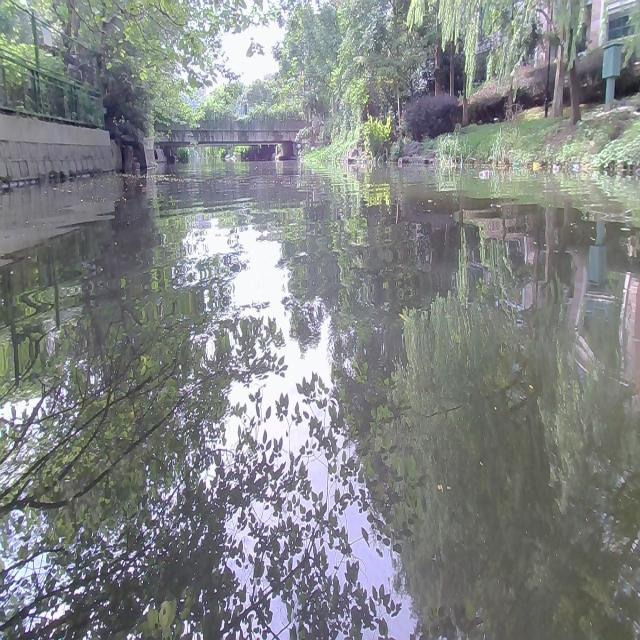bottle: (531, 160, 543, 171), (477, 170, 490, 178)
